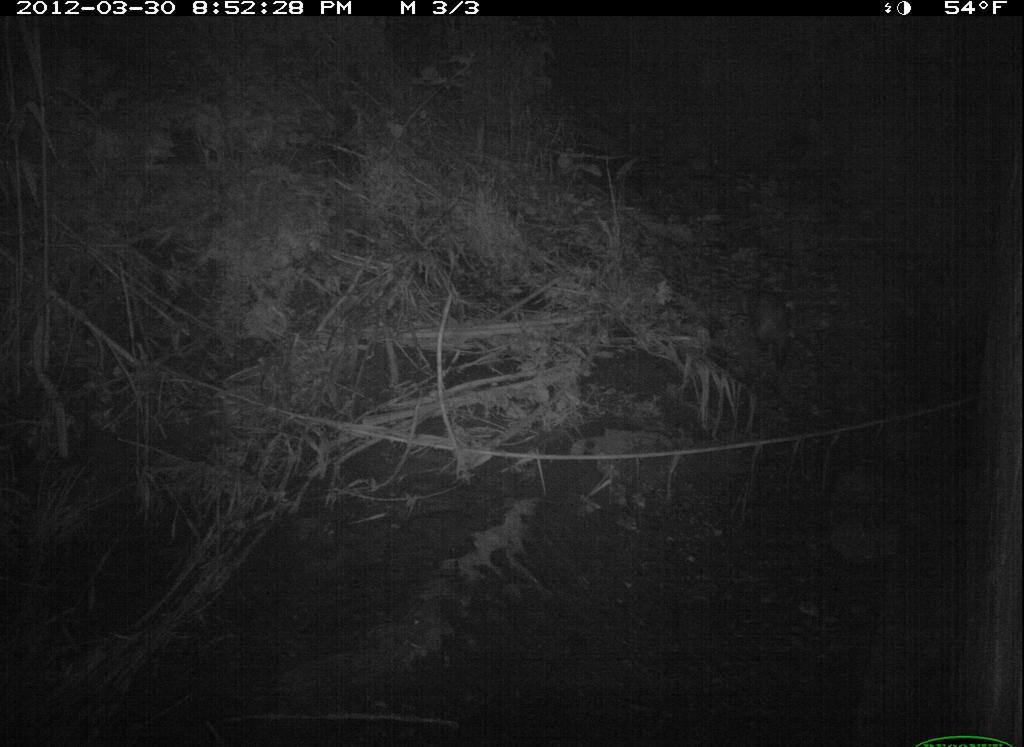opossum: (731, 286, 804, 381)
